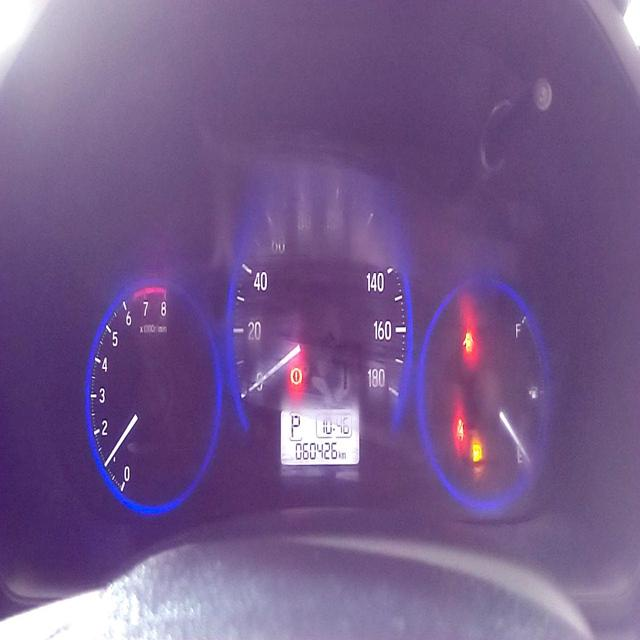odometer: (293, 440, 339, 462)
